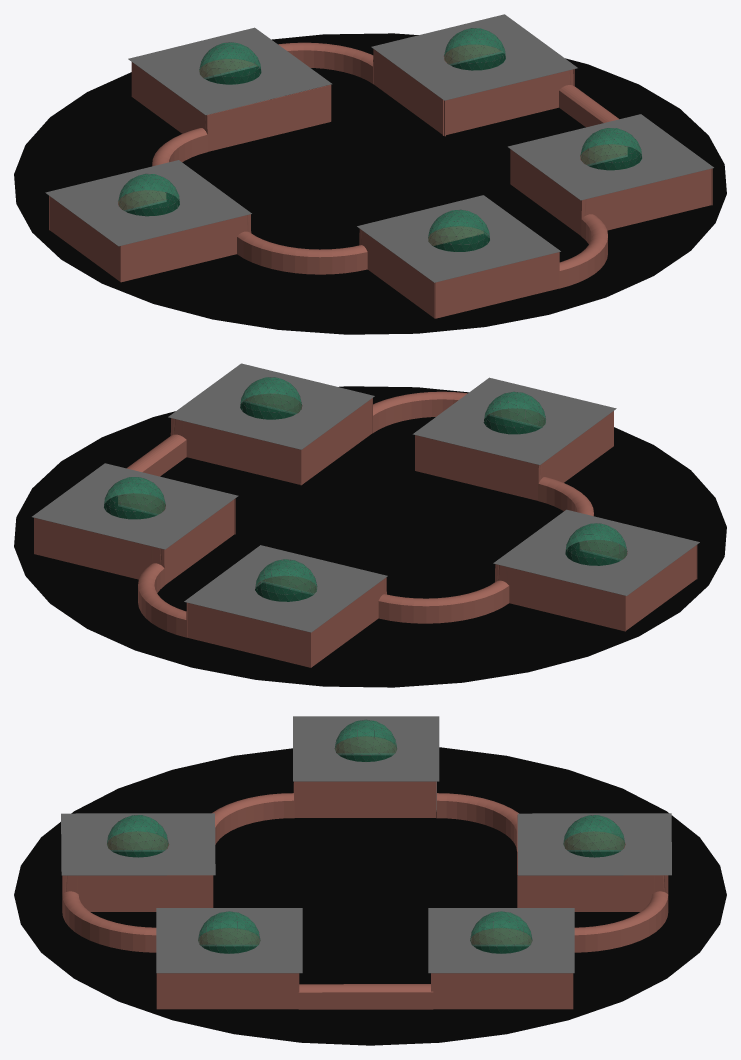
The model's file is PruebaFinalEspero.fbx.
The picture shows the model from 3 angles, top to bottom: view 1: azimuth 30°, elevation 25°; view 2: azimuth 150°, elevation 25°; view 3: azimuth 270°, elevation 25°; orthographic projection.
Visible parts, largest first — view 1: Círculo, Techo.004, Techo, Techo.003, Techo.002, Techo.001, Cubo.011, Cubo.010, Cubo.003, Cubo.008, Cubo.020, Cubo.022 (+19 smaller); view 2: Círculo, Techo.003, Techo, Techo.004, Techo.001, Techo.002, Cubo.021, Cubo.016, Cubo.015, Cubo.024, Cubo.009, Cubo.018 (+19 smaller); view 3: Círculo, Techo.001, Techo.002, Techo.004, Techo.003, Techo, Cubo.007, Cubo.014, Cubo.006, Cubo.017, Cubo.012, Cubo.019 (+14 smaller).
Part boxes in pixels (x1,y1,x2,y2): Círculo: (14,33,726,334); Techo.004: (507,114,713,200); Techo: (45,160,251,246); Techo.003: (371,14,577,100); Techo.002: (128,27,332,115); Techo.001: (357,195,560,282); Cubo.011: (208,85,330,151); Cubo.010: (120,214,251,282); Cubo.003: (435,252,558,318); Cubo.008: (581,168,711,230); Cubo.020: (442,69,573,135); Cubo.022: (237,231,367,274); Círculo: (14,386,726,687); Techo.003: (32,463,238,549); Techo: (493,509,699,595); Techo.004: (168,363,374,449); Techo.001: (412,377,616,465); Techo.002: (184,545,387,632); Cubo.021: (415,435,538,500); Cubo.016: (495,564,625,631); Cubo.015: (34,518,164,579); Cubo.024: (187,603,310,667); Cubo.009: (170,418,300,484); Cubo.018: (378,580,509,623); Círculo: (14,747,726,1045); Techo.001: (61,813,215,875); Techo.002: (517,813,671,875); Techo.004: (156,908,302,973); Techo.003: (428,908,574,973); Techo: (293,716,439,781); Cubo.007: (156,973,298,1009); Cubo.014: (431,973,573,1009); Cubo.006: (294,781,435,817); Cubo.017: (62,875,212,911); Cubo.012: (518,875,668,911); Cubo.019: (298,984,433,1009).
Bounding box in the file's own units: 18011 × 1774 × 18011.
